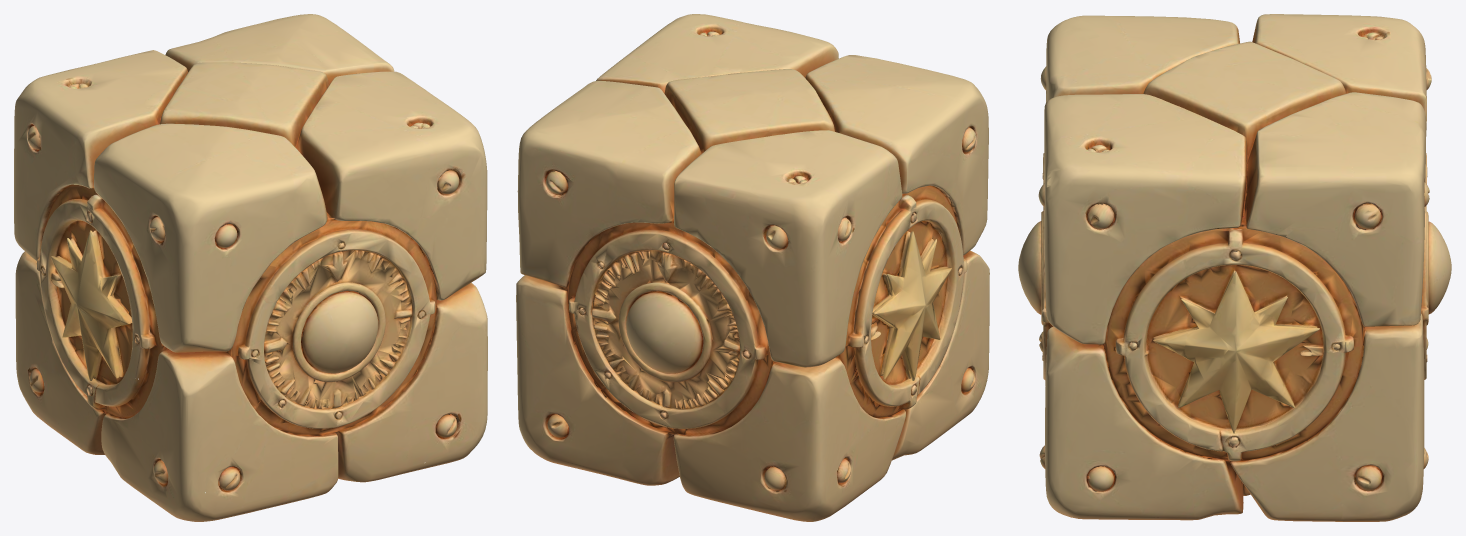
The model's file is golden.glb.
3 views of the same model, side by side, from view 1: azimuth 30°, elevation 25°; view 2: azimuth 150°, elevation 25°; view 3: azimuth 270°, elevation 25° (orthographic). The views are drawn at different scales.
Visible parts, largest first — view 1: tripo_node_448d80d6-d9c6-42aa-84aa-194504611772; view 2: tripo_node_448d80d6-d9c6-42aa-84aa-194504611772; view 3: tripo_node_448d80d6-d9c6-42aa-84aa-194504611772.
Part boxes in pixels (x1,y1,x2,y2): tripo_node_448d80d6-d9c6-42aa-84aa-194504611772: [14, 14, 487, 521]; tripo_node_448d80d6-d9c6-42aa-84aa-194504611772: [516, 14, 989, 521]; tripo_node_448d80d6-d9c6-42aa-84aa-194504611772: [1018, 14, 1451, 521].
Bounding box in the file's own units: 0.9774 × 0.95 × 0.98.
1 material, 1 textured.
